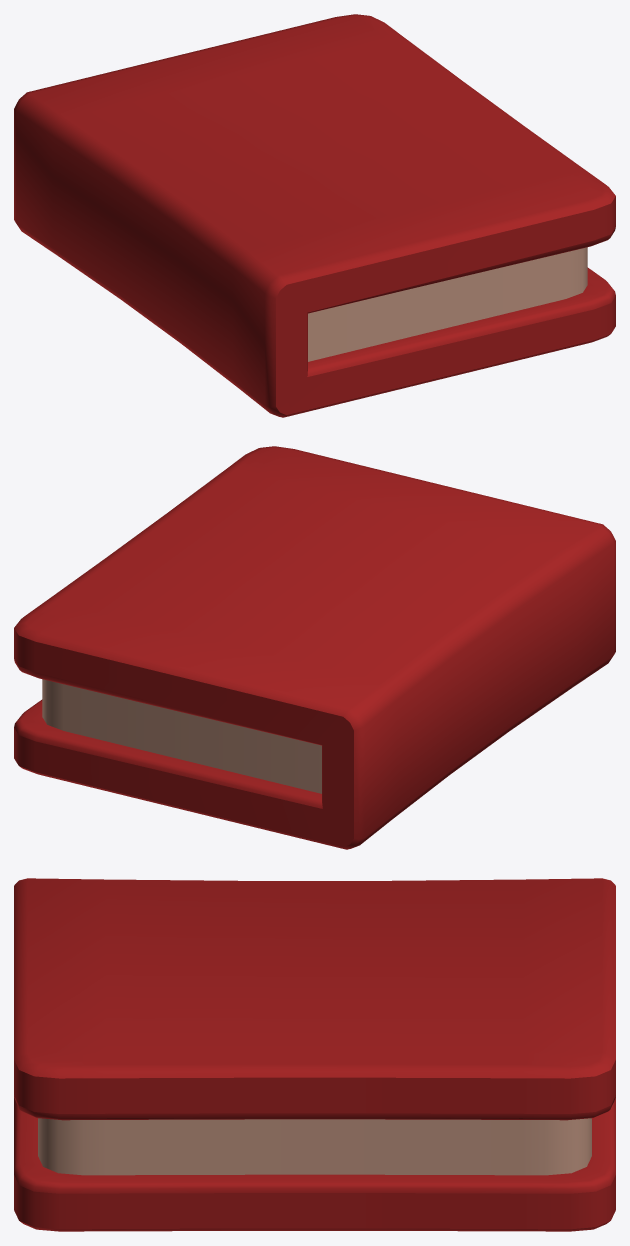
File: Book_004.FBX
The picture shows the model from 3 angles, top to bottom: view 1: azimuth 30°, elevation 25°; view 2: azimuth 150°, elevation 25°; view 3: azimuth 270°, elevation 25°; orthographic projection. The views are drawn at different scales.
Parts seen in each view (by area): view 1: Book_004; view 2: Book_004; view 3: Book_004.
Part boxes in pixels (x1,y1,x2,y2): Book_004: (14,14,615,417); Book_004: (14,446,615,849); Book_004: (14,878,615,1231).
Size of the model in its own units: 8.24 by 3.1 by 10.38.
